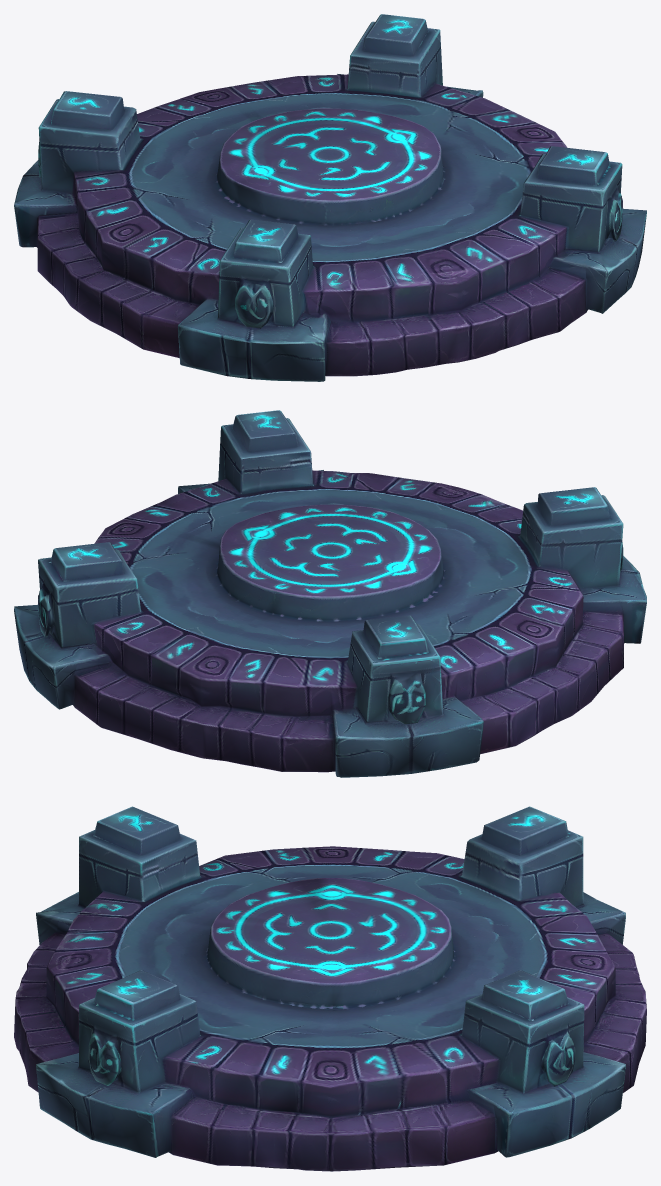
File: Meshy_AI_A_detailed_stylized_3_0518084508_texture.fbx
3 renders of one model, top to bottom at view 1: azimuth 30°, elevation 25°; view 2: azimuth 150°, elevation 25°; view 3: azimuth 270°, elevation 25°, orthographic. The views are drawn at different scales.
Visible parts, largest first — view 1: Mesh_0; view 2: Mesh_0; view 3: Mesh_0.
Boxes of the visible parts, left/top/right/bottom form: Mesh_0: left=14, top=14, right=646, bottom=381; Mesh_0: left=14, top=410, right=646, bottom=777; Mesh_0: left=14, top=806, right=646, bottom=1171.
Size of the model in its own units: 190 by 44.23 by 190.
1 material, 1 textured.
